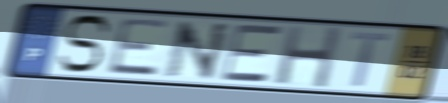E: (104, 16, 174, 79), (218, 24, 285, 85)
H: (272, 23, 345, 91)
N: (163, 19, 233, 82)
S: (54, 12, 115, 75)
T: (348, 29, 394, 89)
